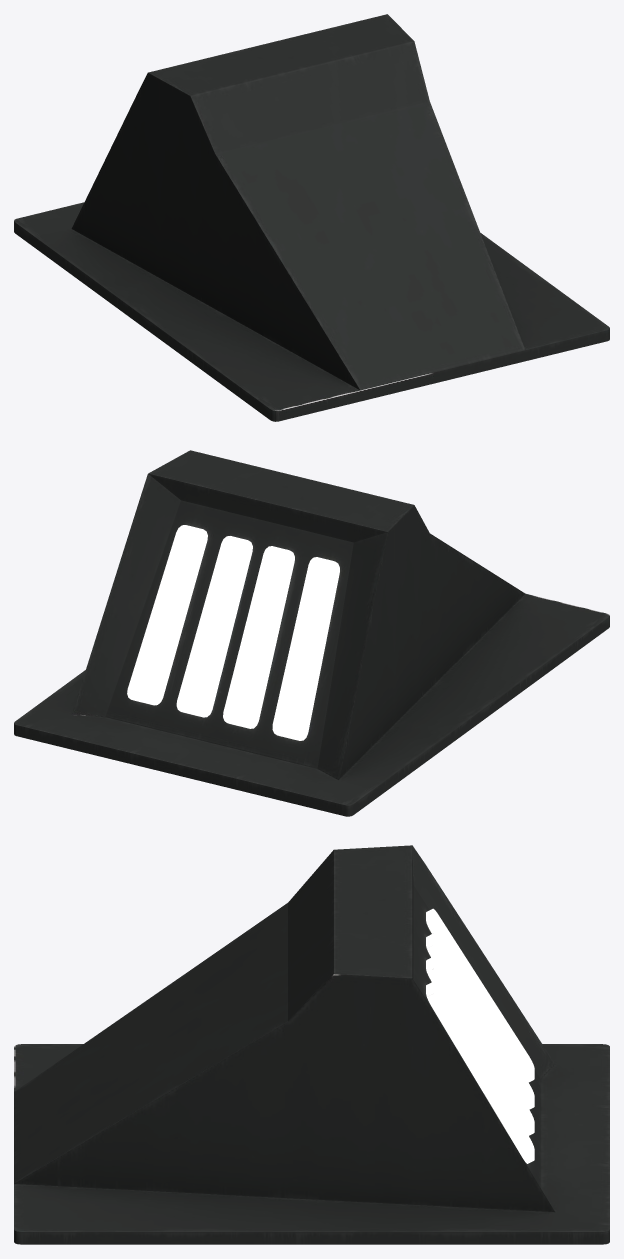
The model's file is light.fbx.
3 views of the same model, one above another, from view 1: azimuth 30°, elevation 25°; view 2: azimuth 150°, elevation 25°; view 3: azimuth 270°, elevation 25° (orthographic). The views are drawn at different scales.
Parts seen in each view (by area): view 1: light; view 2: light; view 3: light.
Boxes of the visible parts, x1=… form: light: x1=14, y1=14, x2=609, y2=421; light: x1=14, y1=450, x2=609, y2=816; light: x1=14, y1=845, x2=609, y2=1244.
Bounding box in the file's own units: 160 × 95 × 215.
1 material, 1 textured.
